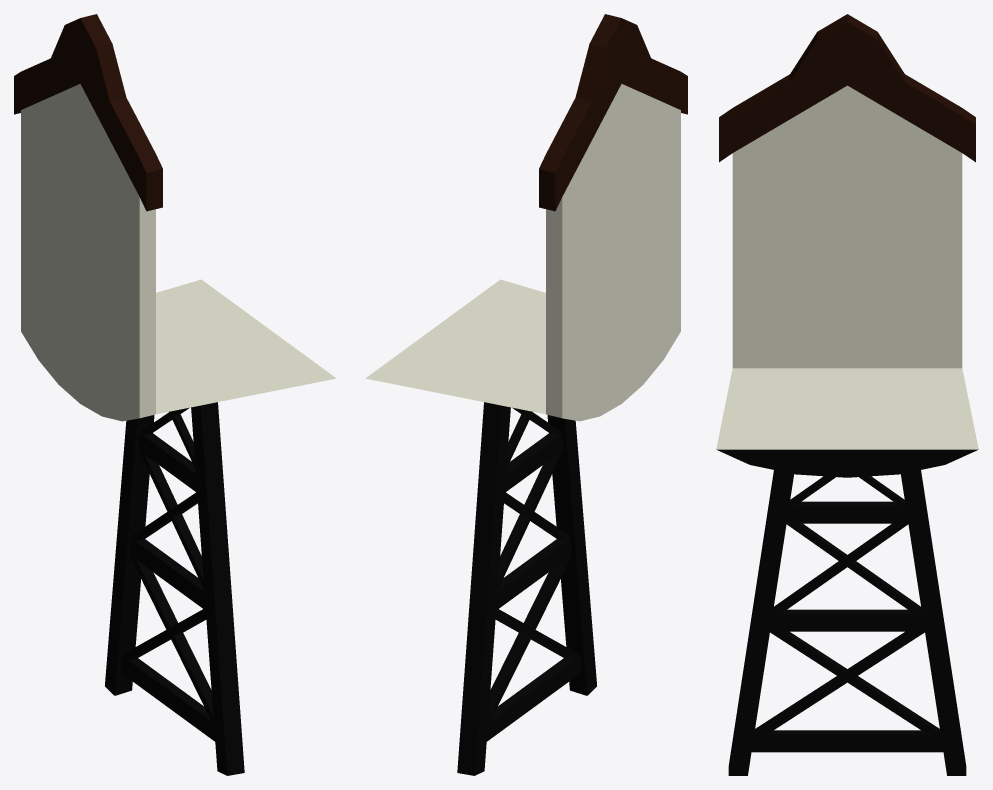
The model's file is water tower1.fbx.
3 renders of one model, left to right at view 1: azimuth 30°, elevation 25°; view 2: azimuth 150°, elevation 25°; view 3: azimuth 270°, elevation 25°, orthographic. The views are drawn at different scales.
Parts seen in each view (by area): view 1: Cylinder; view 2: Cylinder; view 3: Cylinder.
Part boxes in pixels (x1,y1,x2,y2): Cylinder: [14, 14, 336, 775]; Cylinder: [365, 14, 687, 775]; Cylinder: [716, 14, 978, 775].
Size of the model in its own units: 1091 by 4068 by 1355.
